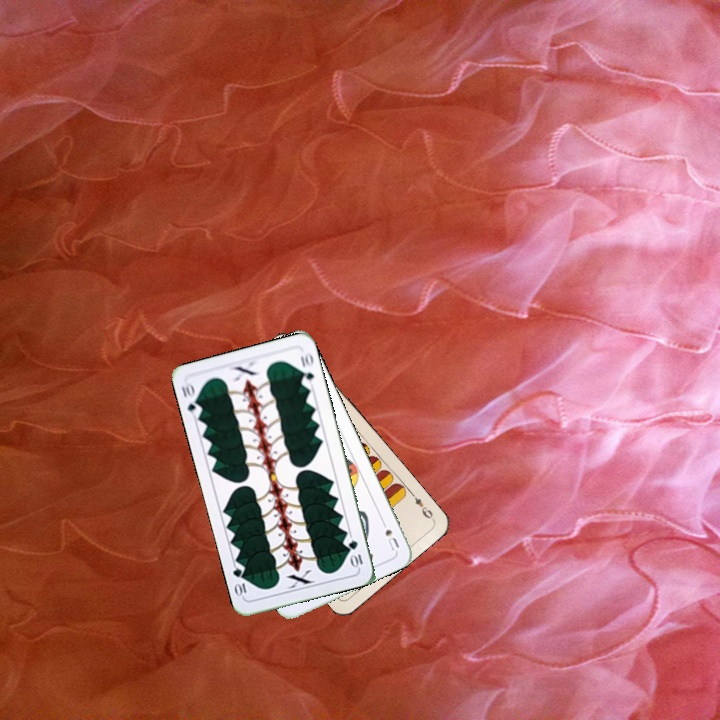E9: (406, 488, 436, 523)
G10: (177, 378, 204, 418), (344, 536, 365, 570)
SU: (377, 515, 402, 553)
